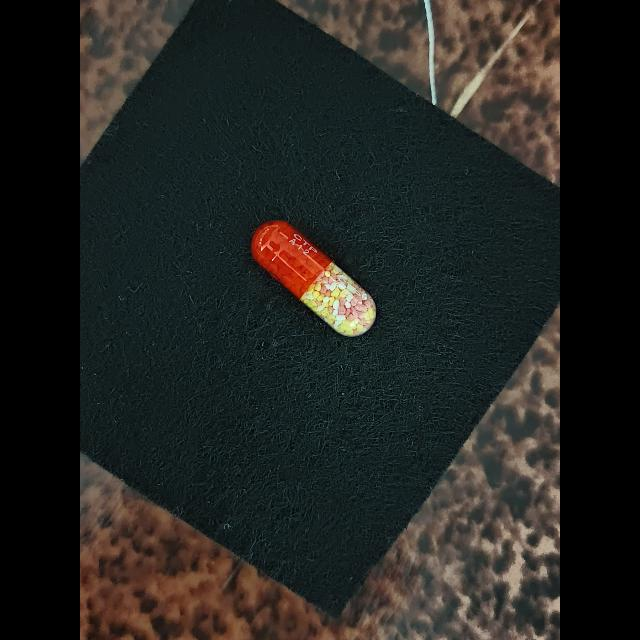Intact Capsule: (251, 220, 376, 336)
